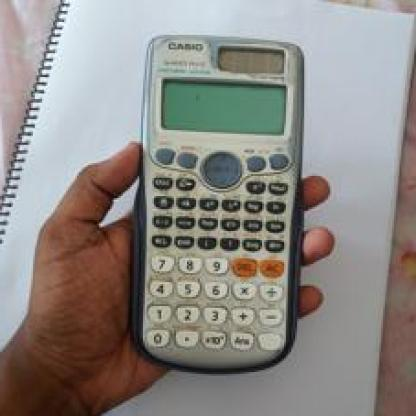calculator: (136, 29, 303, 374)
